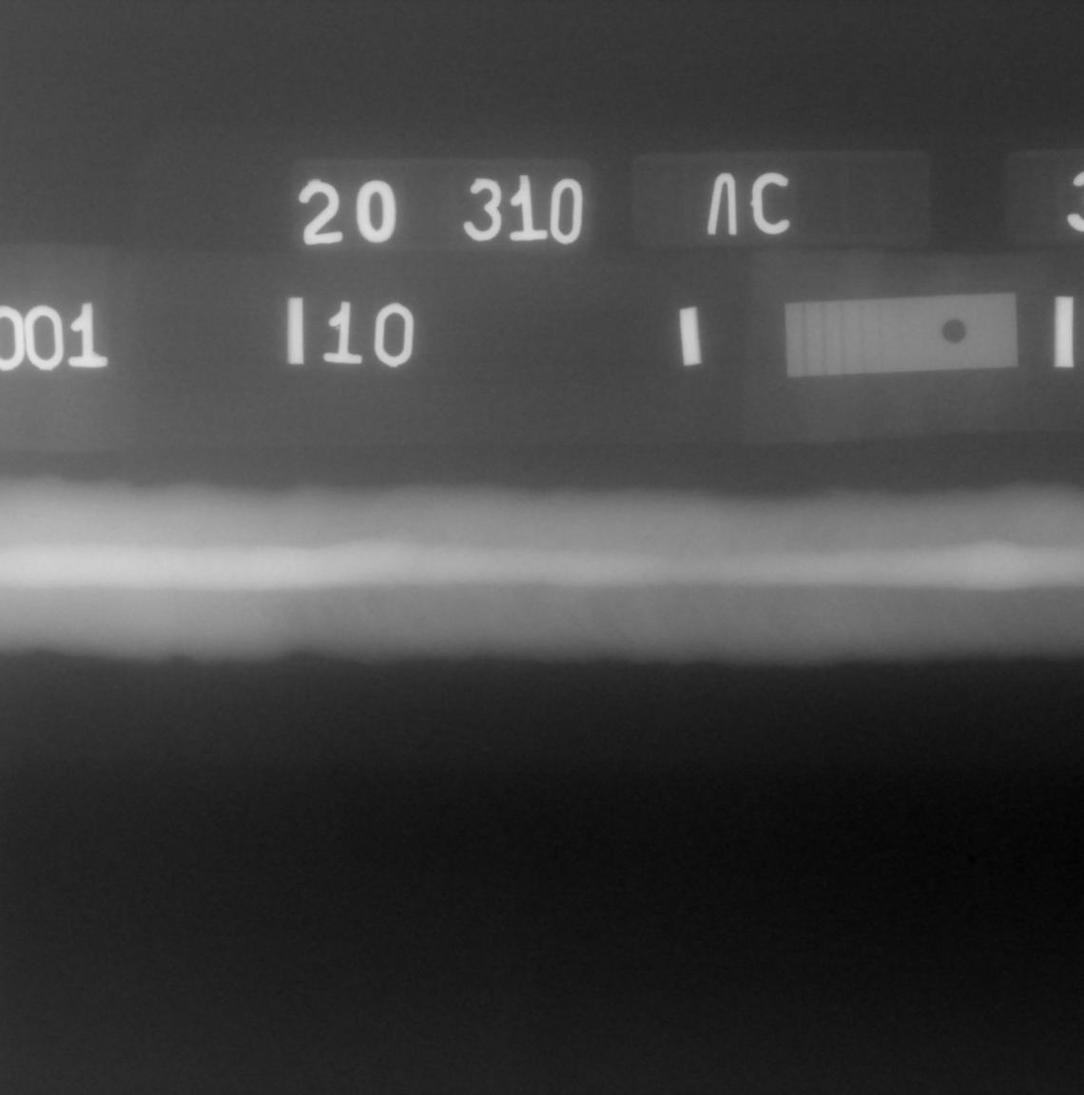Reference Standard 1: (786, 292, 1019, 377)
